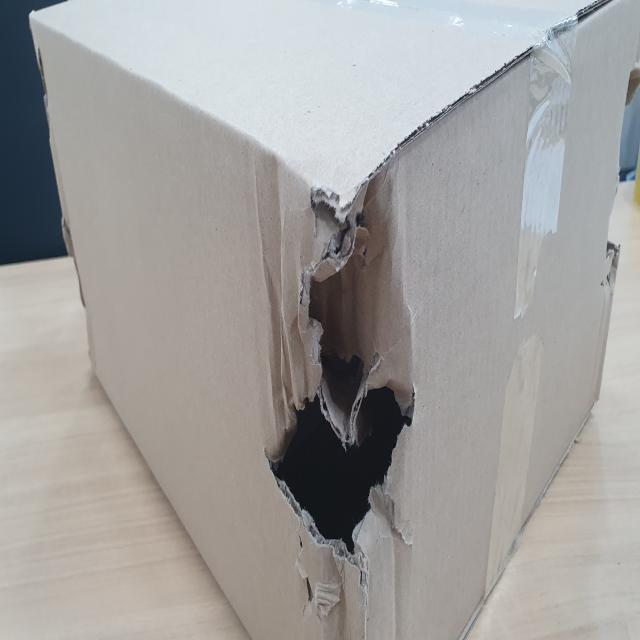hole: (272, 163, 404, 542)
